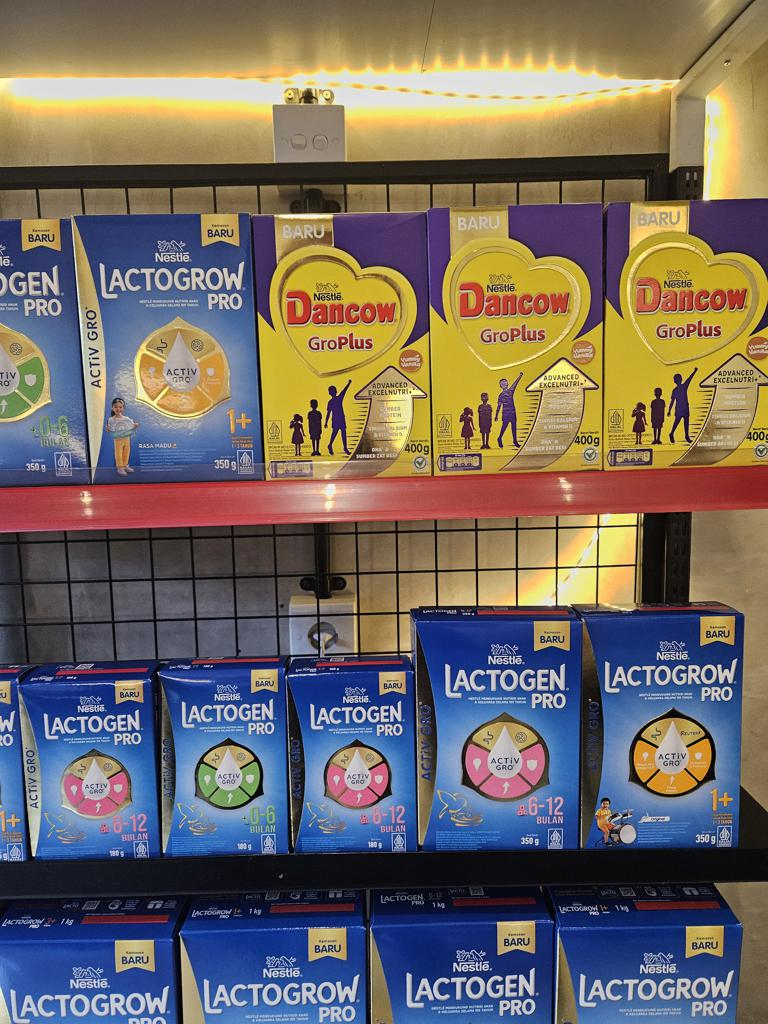LACTOGEN PRO 0-6 mo 40x180g ID: (154, 665, 292, 855)
LACTOGEN PRO 6-12 mo 24x350g ID: (413, 616, 581, 851)
LACTOGEN PRO 6-12 mo 40x180g ID: (18, 678, 161, 857), (288, 668, 418, 854)
LACTOGROW PRO 1+ Honey 24x350g ID: (67, 210, 267, 483)
